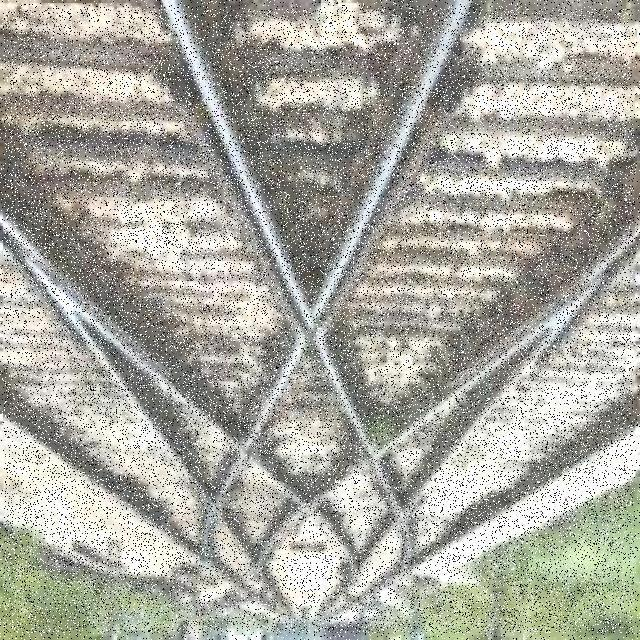rail: (6, 10, 634, 634)
